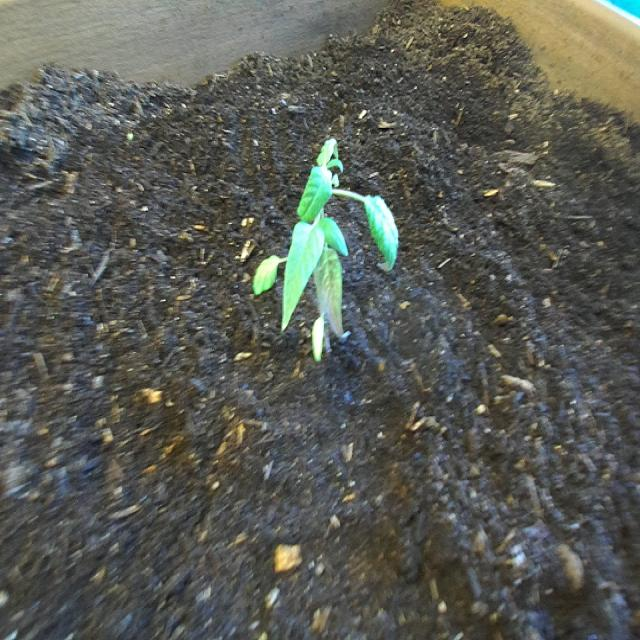Healthy: (244, 118, 405, 374)
